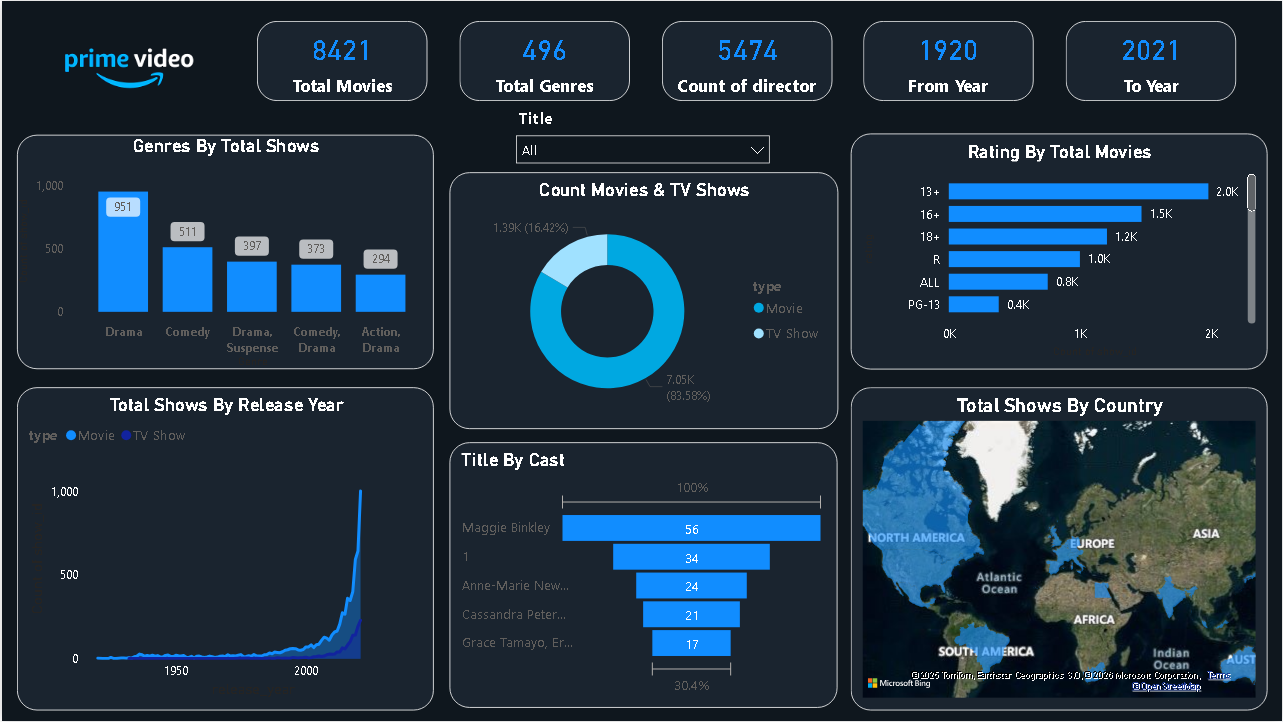

The page's visual inventory and layout, read from the dashboard file:
{"tool":"powerbi","page":{"name":"Page 1","canvas":[1280,720],"ordinal":0},"visuals":[{"type":"card","fields":{"Values":["Count(amazon_prime_titles (1).title)"]},"box":[254.5,19.5,170,80],"z":0},{"type":"card","fields":{"Values":["Count(amazon_prime_titles (1).listed_in)"]},"box":[457,19.5,170,80],"z":1000},{"type":"card","fields":{"Values":["Count(amazon_prime_titles (1).director)"]},"box":[659.4,19.5,170,80],"z":2000},{"type":"card","fields":{"Values":["Min(amazon_prime_titles (1).release_year)"]},"box":[861.9,19.5,170,80],"z":3000},{"type":"card","fields":{"Values":["Max(amazon_prime_titles (1).release_year)"]},"box":[1064.3,19.5,170,80],"z":4000},{"type":"clusteredBarChart","title":"Rating By Total Movies","fields":{"Category":["amazon_prime_titles (1).rating"],"Y":["Count(amazon_prime_titles (1).show_id)"]},"box":[849,132.9,417,235.7],"z":5000},{"type":"image","box":[0,0,254.3,134.3],"z":6000},{"type":"donutChart","title":"Count Movies & TV Shows ","fields":{"Category":["amazon_prime_titles (1).type"],"Y":["Count(amazon_prime_titles (1).show_id)"]},"box":[447,171.4,388.6,257.1],"z":7000},{"type":"lineStackedColumnComboChart","title":"Genres By Total Shows","fields":{"Category":["amazon_prime_titles (1).listed_in"],"Y":["Count(amazon_prime_titles (1).show_id)"]},"box":[15,134.3,417.1,234.3],"z":8000},{"type":"filledMap","title":"Total Shows By Country","fields":{"Category":["amazon_prime_titles (1).country"]},"box":[849,385.7,417,322.9],"z":9000},{"type":"areaChart","title":"Total Shows By Release Year","fields":{"Category":["amazon_prime_titles (1).release_year"],"Y":["Count(amazon_prime_titles (1).show_id)"],"Series":["amazon_prime_titles (1).type"]},"box":[15,385.7,417,322.9],"z":10000},{"type":"slicer","fields":{"Values":["amazon_prime_titles (1).title"]},"box":[504.3,100,274.3,71.4],"z":11000},{"type":"funnel","title":"Title By Cast","fields":{"Category":["amazon_prime_titles (1).cast"],"Y":["CountNonNull(amazon_prime_titles (1).title)"]},"box":[447.3,441.4,388,265.7],"z":12000}]}

Visuals, with their boxes in screenshot pixels (x1, y1, x2, y2), scaled from the page's 1280x720 canvas onto the 1283x722 screenshot:
card - Count(amazon_prime_titles (1).title): BBox(255, 20, 425, 100)
card - Count(amazon_prime_titles (1).listed_in): BBox(458, 20, 628, 100)
card - Count(amazon_prime_titles (1).director): BBox(661, 20, 831, 100)
card - Min(amazon_prime_titles (1).release_year): BBox(864, 20, 1034, 100)
card - Max(amazon_prime_titles (1).release_year): BBox(1067, 20, 1237, 100)
"Rating By Total Movies" clusteredBarChart: BBox(851, 133, 1269, 370)
image: BBox(0, 0, 255, 135)
"Count Movies & TV Shows " donutChart: BBox(448, 172, 838, 430)
"Genres By Total Shows" lineStackedColumnComboChart: BBox(15, 135, 433, 370)
"Total Shows By Country" filledMap: BBox(851, 387, 1269, 711)
"Total Shows By Release Year" areaChart: BBox(15, 387, 433, 711)
slicer - amazon_prime_titles (1).title: BBox(505, 100, 780, 172)
"Title By Cast" funnel: BBox(448, 443, 837, 709)
